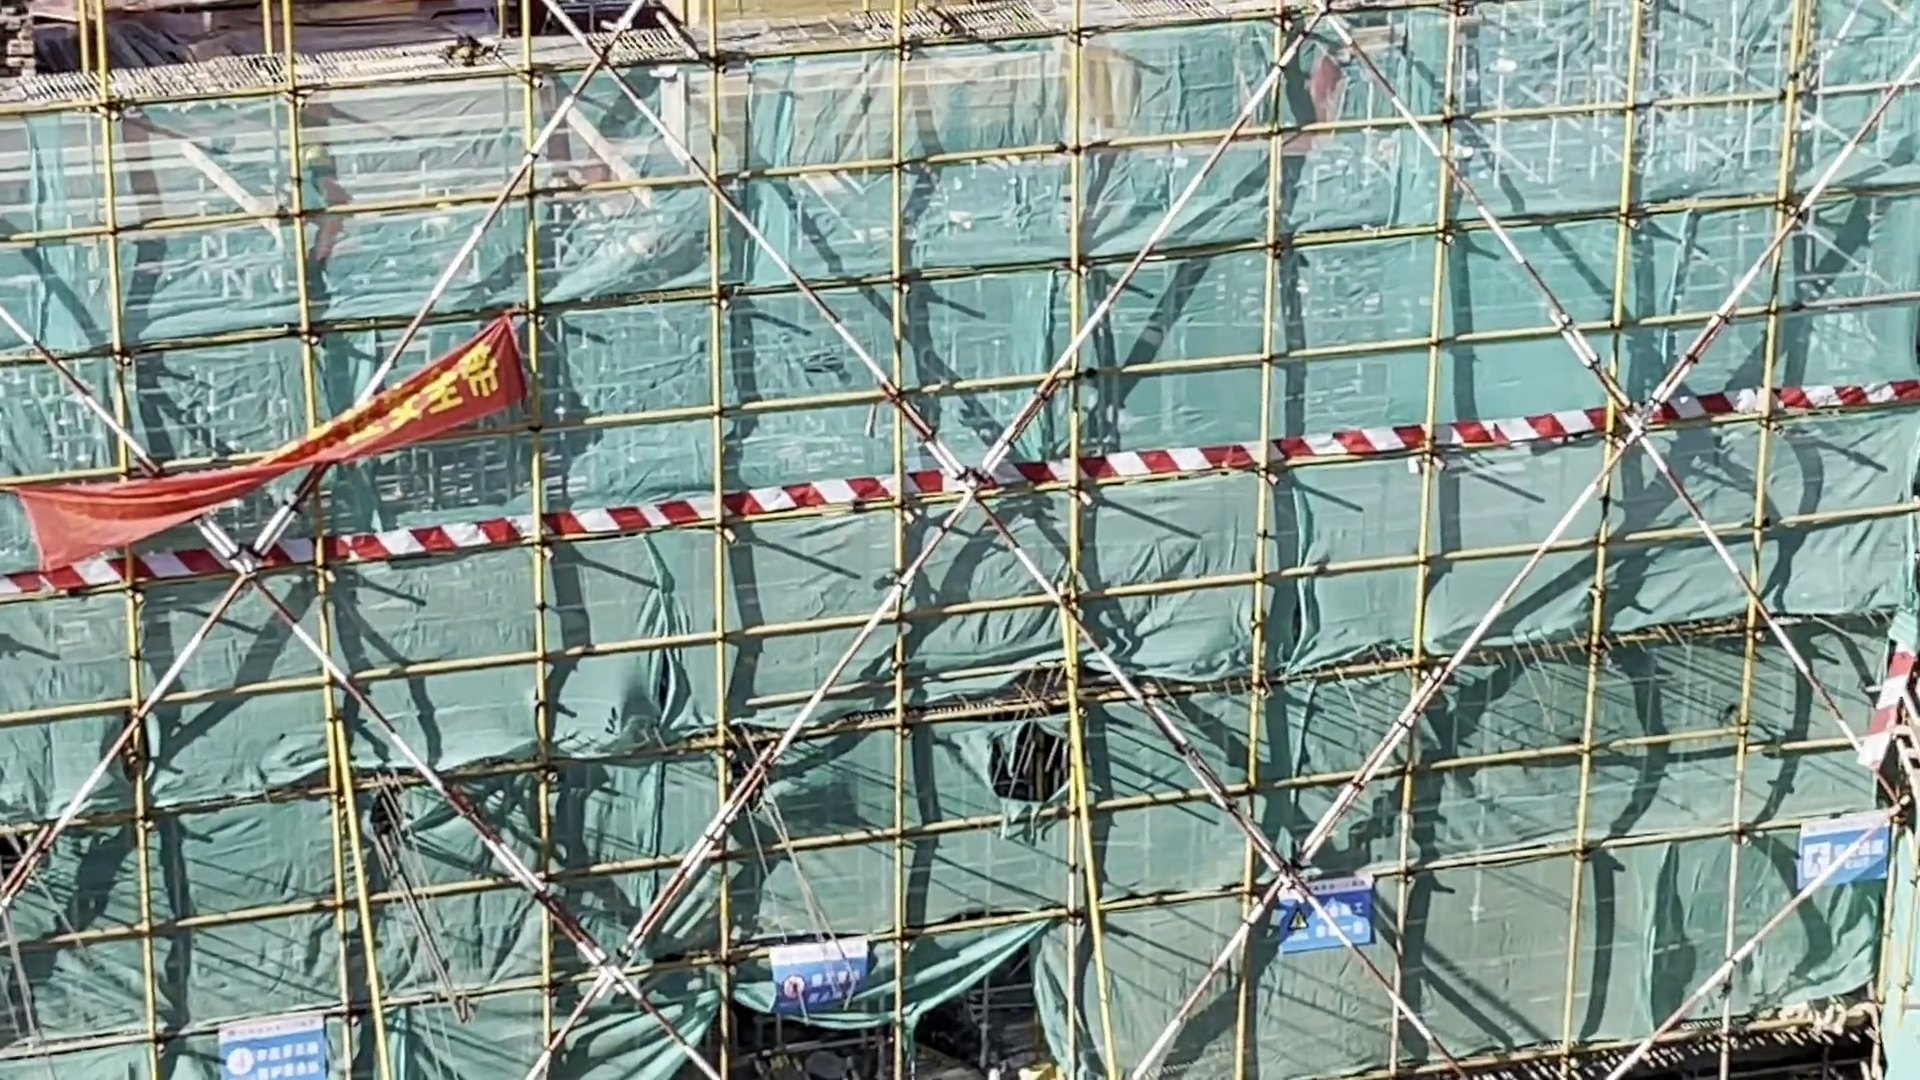slogan: (9, 314, 547, 591), (207, 968, 336, 1076), (1270, 858, 1385, 965), (1787, 795, 1896, 902), (757, 924, 878, 1021)
